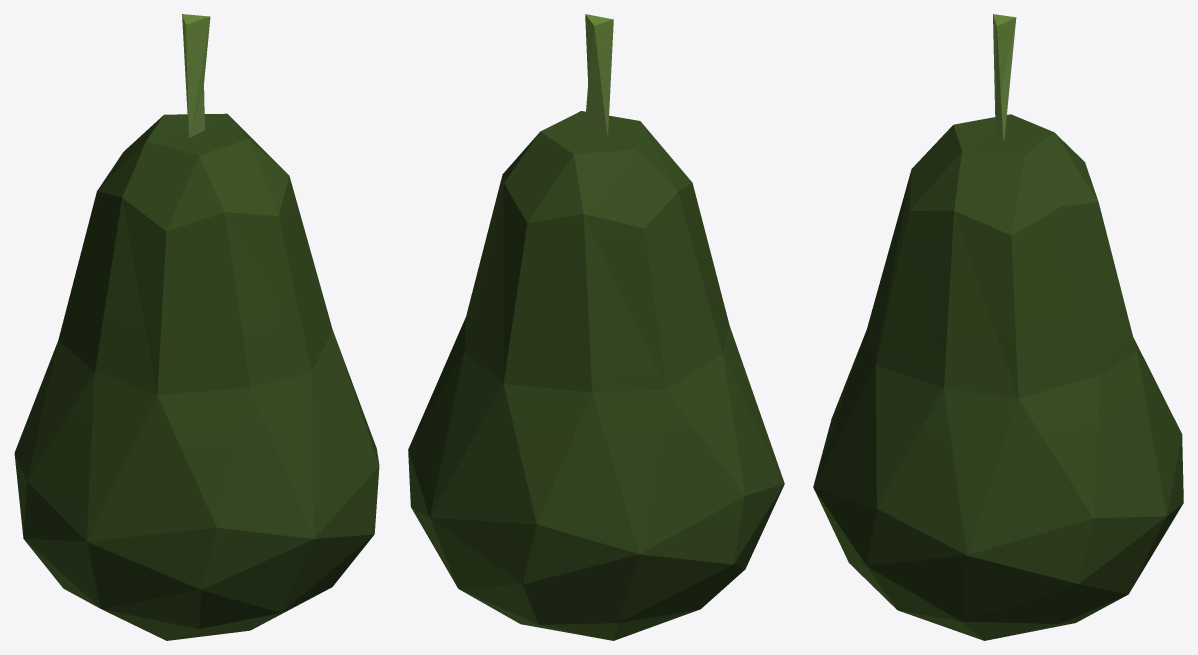
The model's file is Pear_01.fbx.
3 renders of one model, left to right at view 1: azimuth 30°, elevation 25°; view 2: azimuth 150°, elevation 25°; view 3: azimuth 270°, elevation 25°, orthographic.
Visible parts, largest first — view 1: Pear_01; view 2: Pear_01; view 3: Pear_01.
Boxes of the visible parts, x1,y1,x2,y2 form: Pear_01: (14, 14, 379, 640); Pear_01: (408, 14, 784, 640); Pear_01: (813, 14, 1183, 640).
Bounding box in the file's own units: 0.1154 × 0.2031 × 0.1153.
